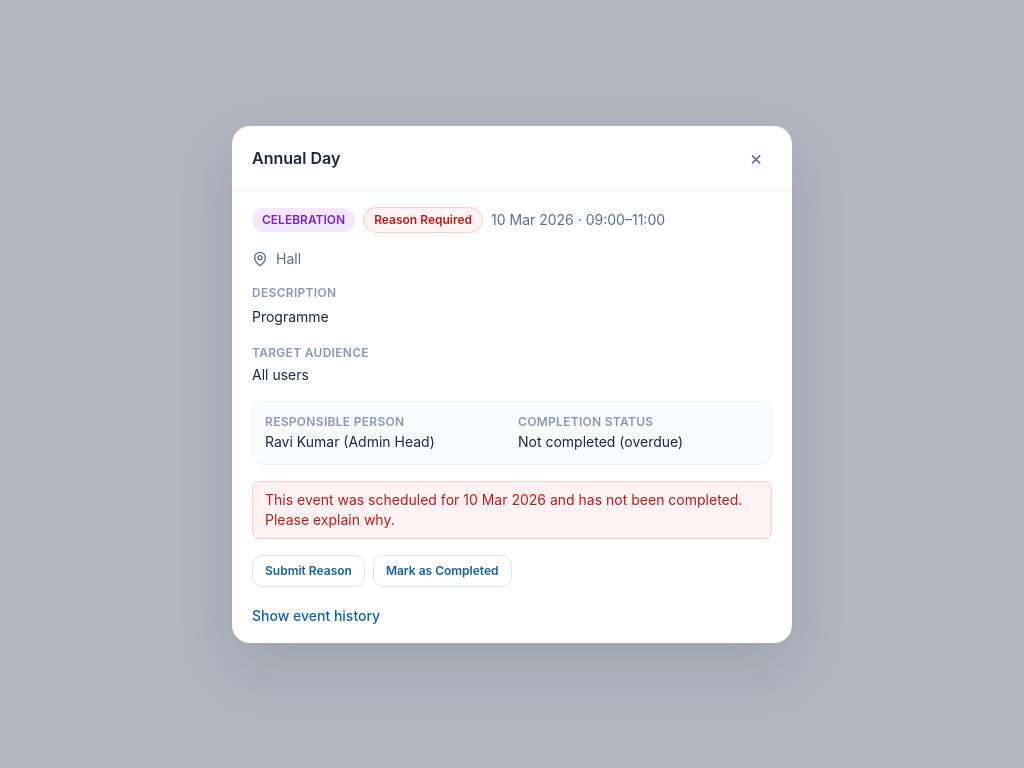
Test case: Event details workflow › loads the audit trail on demand
The width and height of the screenshot is (1024, 768).
What coordinates should you click on to do the following:
click the button "Show event history"
I would click on:
 (316, 616)
Its box is x1=252 y1=606 x2=380 y2=626.
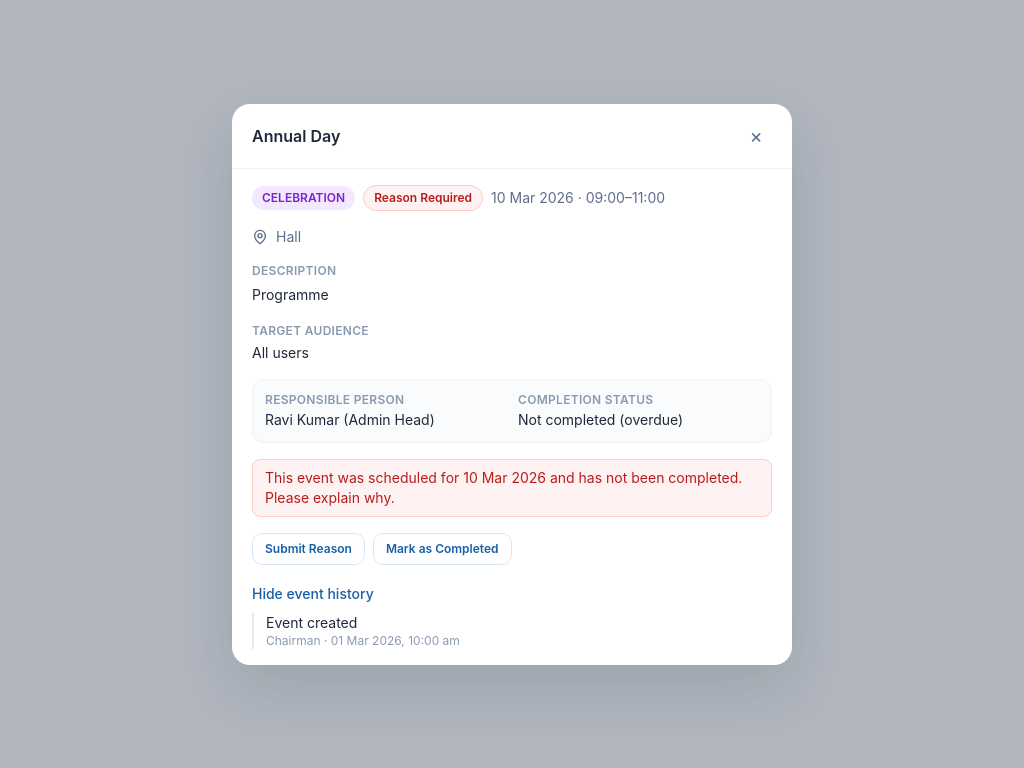
Now the text "Event created" is shown, box x1=266 y1=614 x2=357 y2=630
